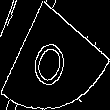O_NE: (31, 22, 79, 88)
